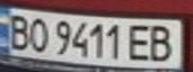1: (103, 20, 127, 60), (87, 20, 106, 58)
4: (69, 19, 90, 57)
9: (48, 17, 72, 56)
B: (145, 21, 181, 63), (3, 11, 33, 51)
E: (124, 21, 157, 62)
O: (24, 15, 51, 53)
